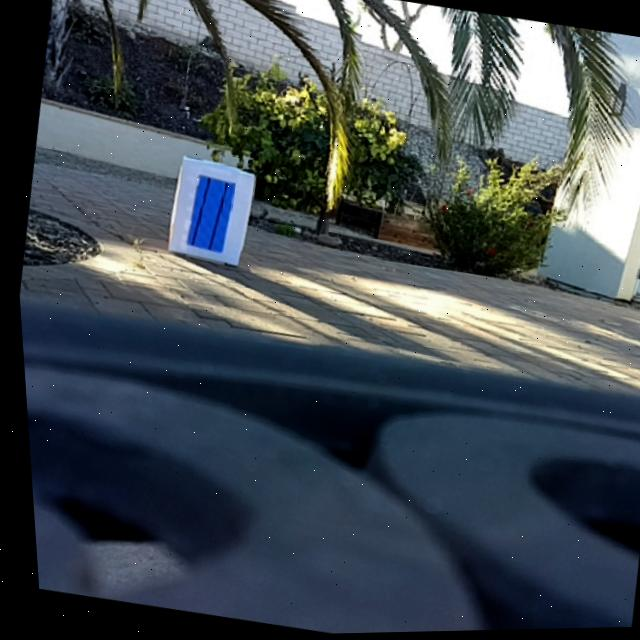led: (182, 174, 235, 254)
